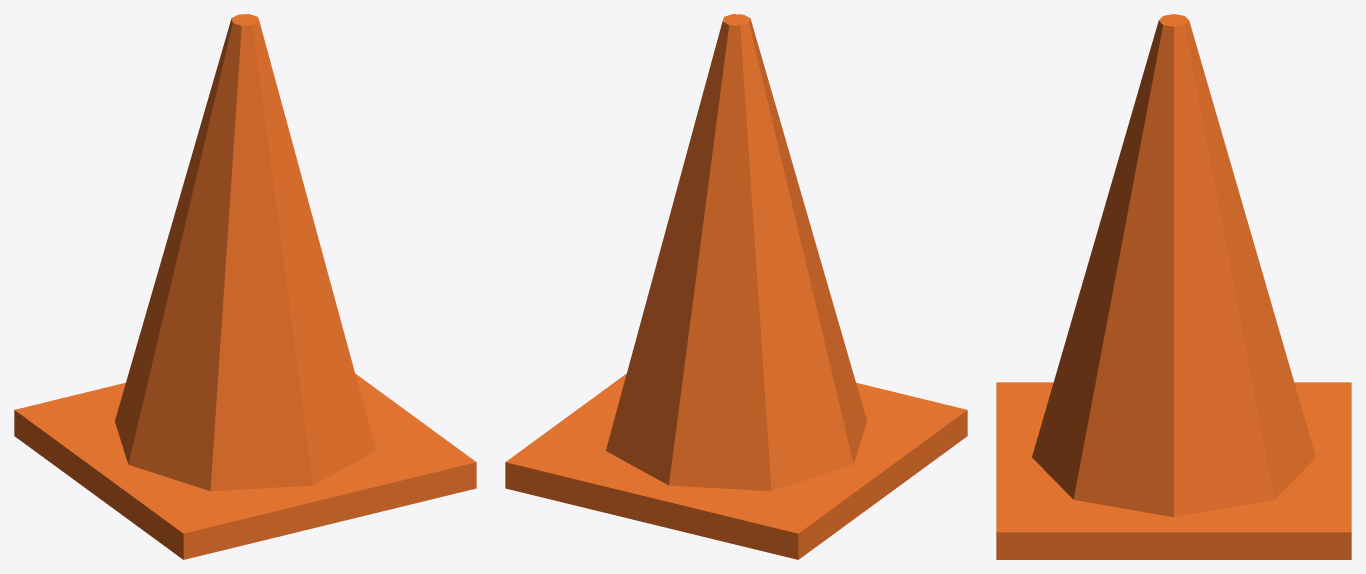
The model's file is traffic_cone.glb.
3 renders of one model, left to right at view 1: azimuth 30°, elevation 25°; view 2: azimuth 150°, elevation 25°; view 3: azimuth 270°, elevation 25°, orthographic. The views are drawn at different scales.
Visible parts, largest first — view 1: traffic_cone; view 2: traffic_cone; view 3: traffic_cone.
Part boxes in pixels (x1=…): traffic_cone: x1=14, y1=14, x2=476, y2=559; traffic_cone: x1=505, y1=14, x2=967, y2=559; traffic_cone: x1=996, y1=14, x2=1351, y2=559.
Bounding box in the file's own units: 0.7 × 1.01 × 0.7.
